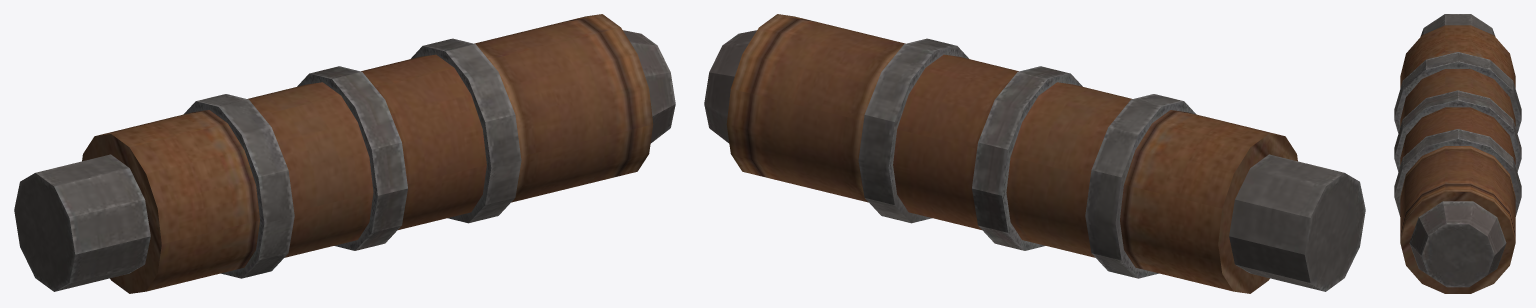
Rendered from hush_can.glb.
3 views of the same model, side by side, from view 1: azimuth 30°, elevation 25°; view 2: azimuth 150°, elevation 25°; view 3: azimuth 270°, elevation 25° (orthographic). The views are drawn at different scales.
Parts seen in each view (by area): view 1: hush_can; view 2: hush_can; view 3: hush_can.
Part boxes in pixels (x1=…): hush_can: x1=14, y1=14, x2=675, y2=293; hush_can: x1=704, y1=14, x2=1365, y2=293; hush_can: x1=1394, y1=14, x2=1521, y2=293.
Size of the model in its own units: 0.16 by 0.042 by 0.042.
Materials: 1 (1 with a texture image).
